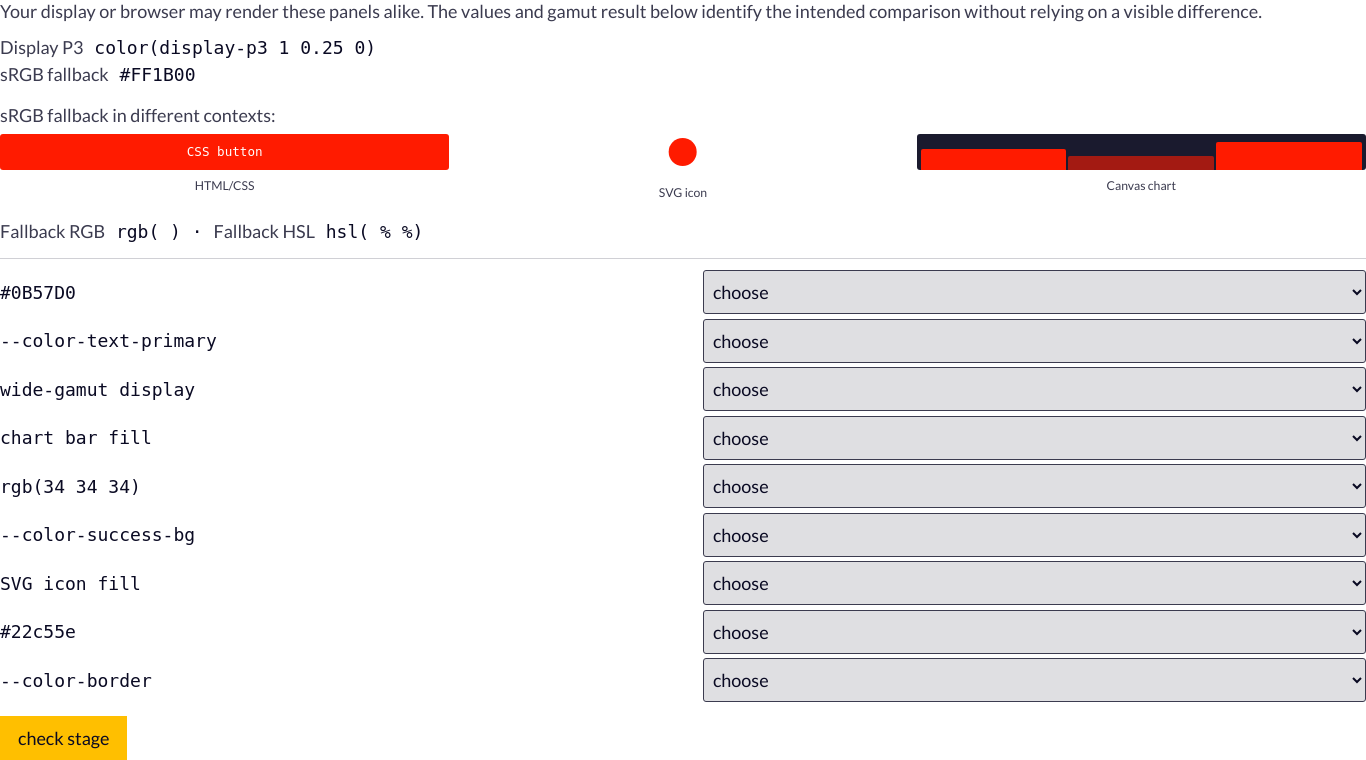
Test case: ColorSpaceLabTool challenge › keeps an incorrect classification attempt in the first stage
(page scrolled)
Click the button "check stage" at (64, 738), box [0,716,128,759]
(page scrolled)
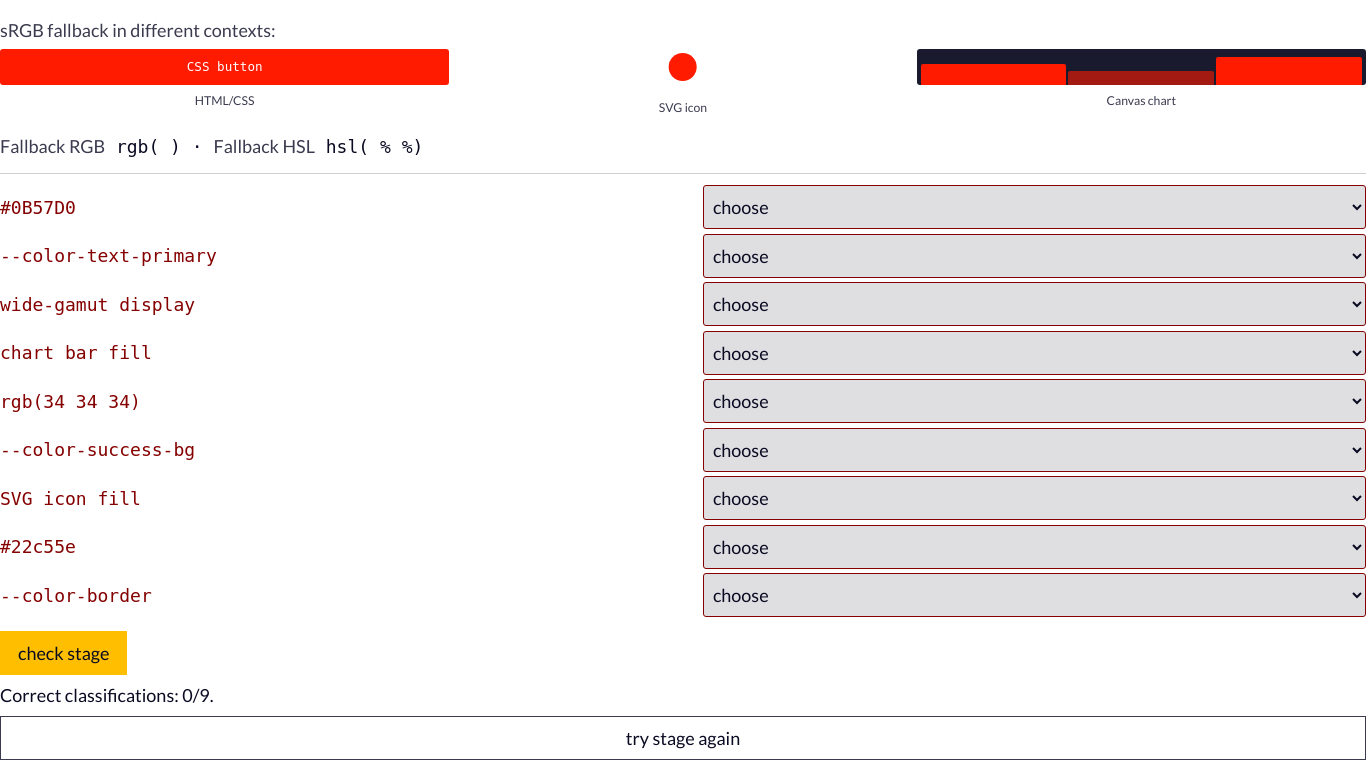
Expected: the text "Correct classifications: 0/9." is shown, [0,684,214,706]
